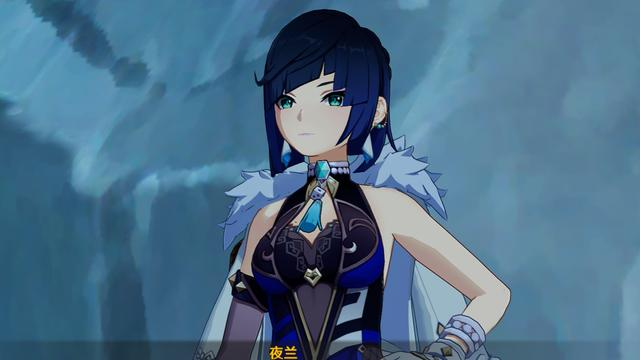夜兰: (211, 8, 513, 360)
